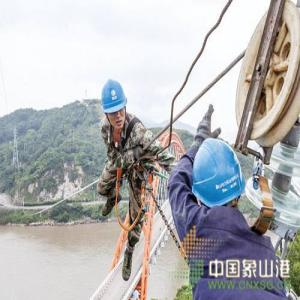blue: (192, 138, 245, 216), (102, 79, 129, 129)
